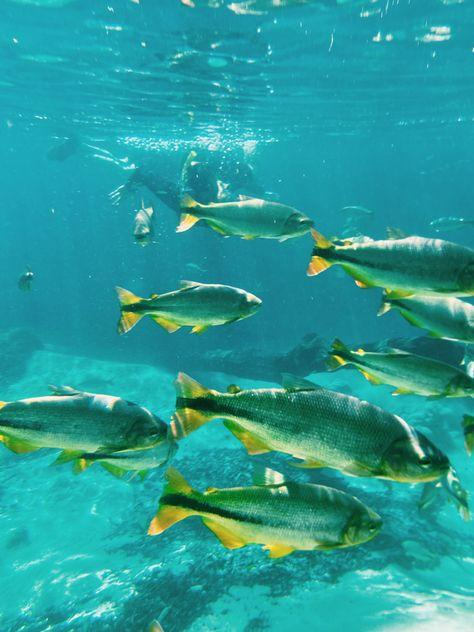fish: (169, 370, 450, 482), (149, 466, 383, 558), (0, 385, 166, 477), (305, 228, 474, 295), (329, 341, 474, 400), (114, 281, 263, 335), (178, 192, 314, 243), (378, 290, 474, 344), (131, 200, 158, 245), (430, 217, 474, 233), (17, 266, 35, 294)
